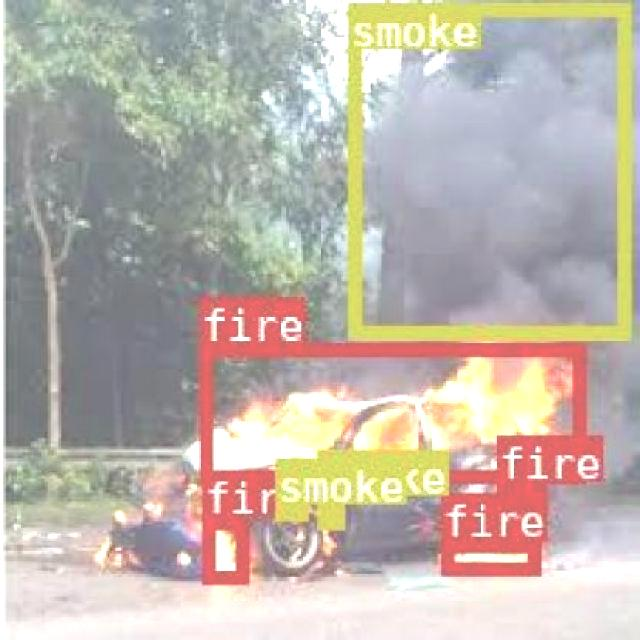fire: (196, 343, 584, 479), (438, 539, 537, 573), (496, 480, 544, 538), (202, 515, 244, 580)
smoke: (346, 2, 628, 336), (316, 494, 342, 526), (273, 503, 304, 519)
